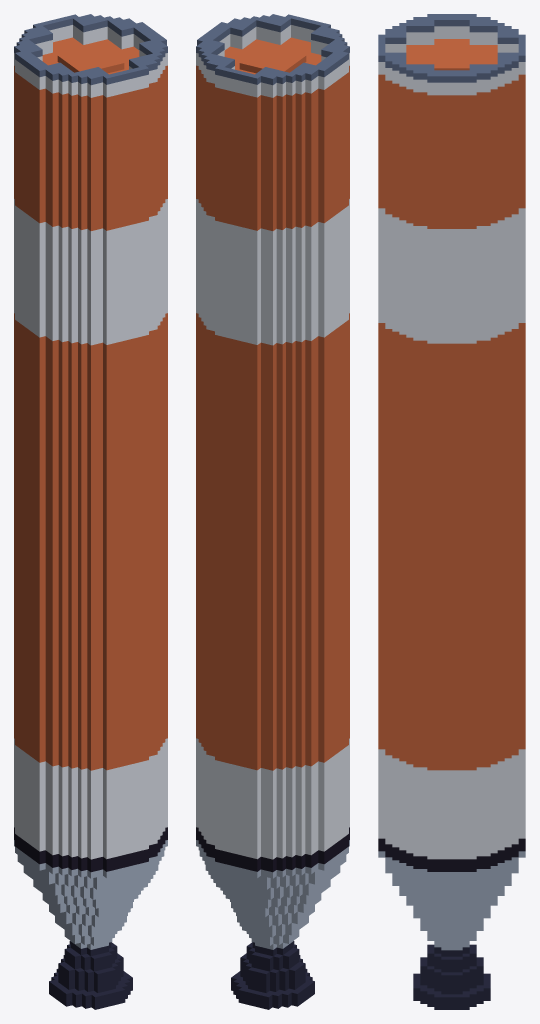
Rendered from Lake_IV_first_stage.obj.
3 renders of one model, left to right at view 1: azimuth 30°, elevation 25°; view 2: azimuth 150°, elevation 25°; view 3: azimuth 270°, elevation 25°, orthographic.
Bounding box in the file's own units: 2.1 × 14.9 × 2.1.
Materials: 1 (1 with a texture image).
